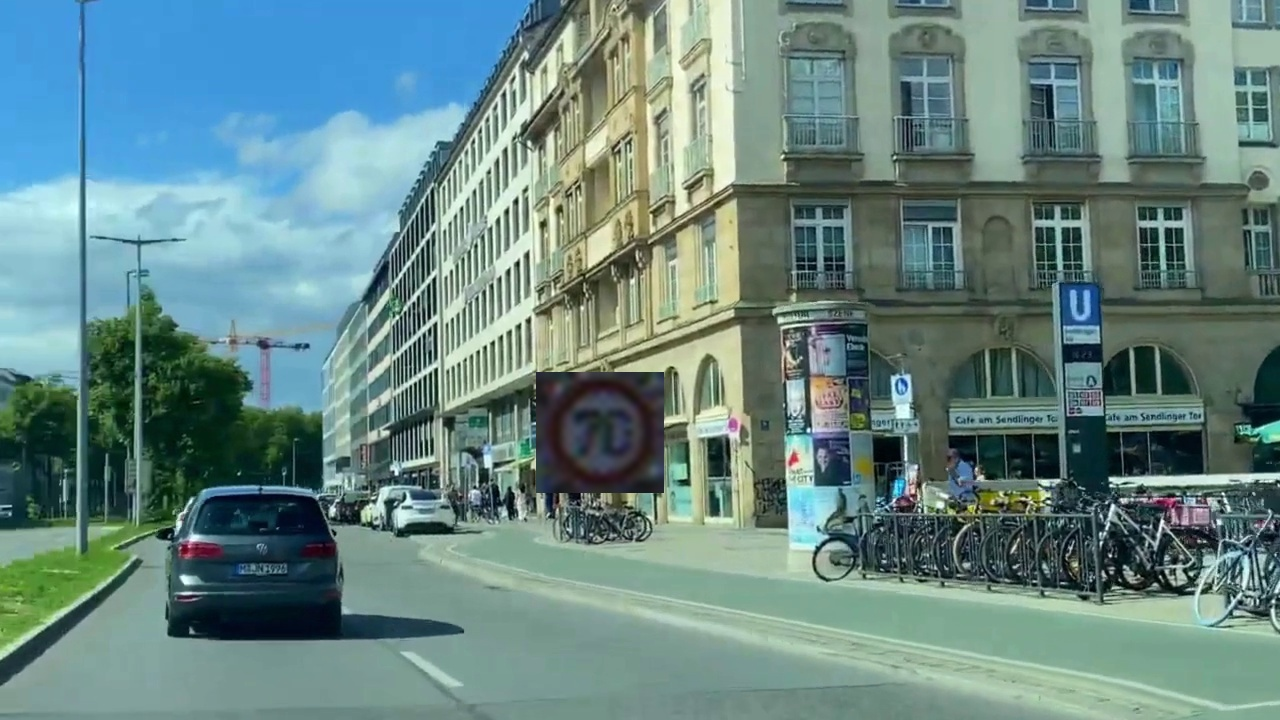Speed 70: (536, 372, 664, 493)
